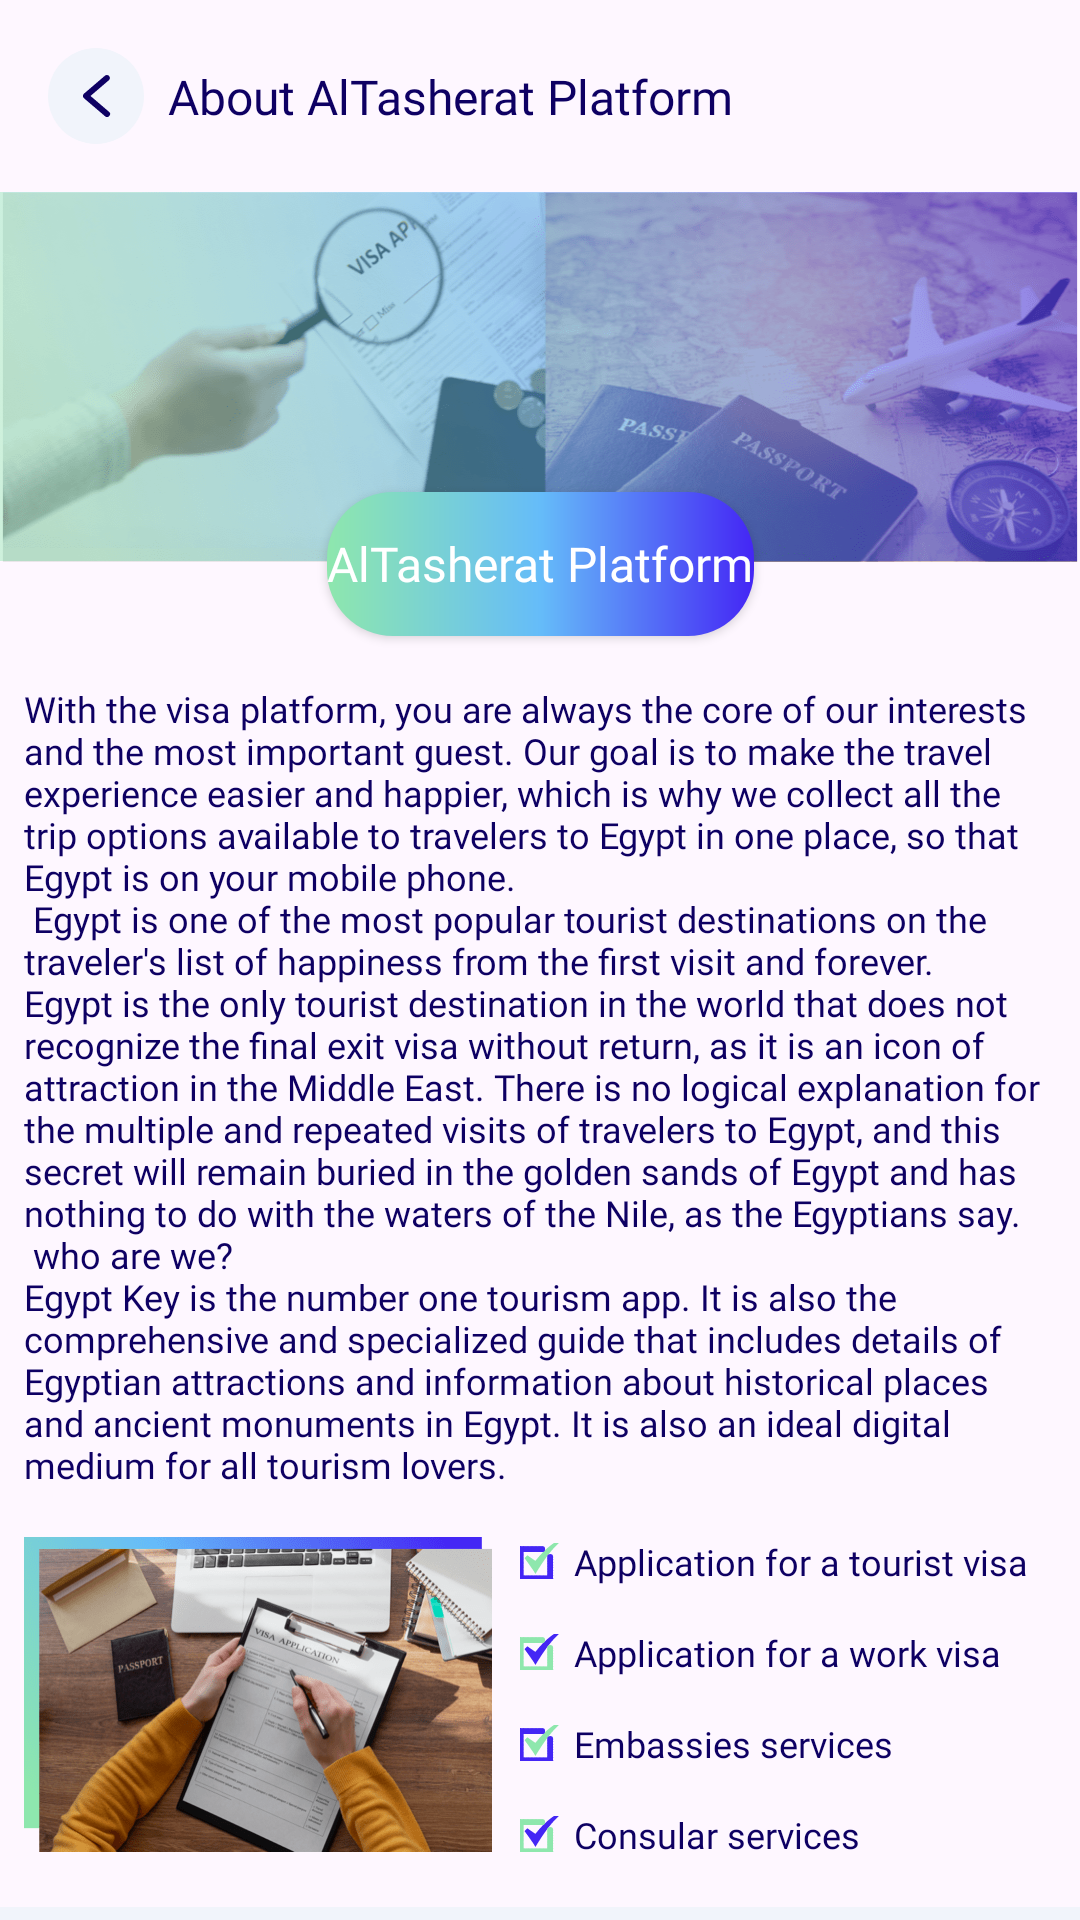

Point at icon controls on the screen. Image size 1080*1920, points as (x,y).
arrow back: (96,96)
